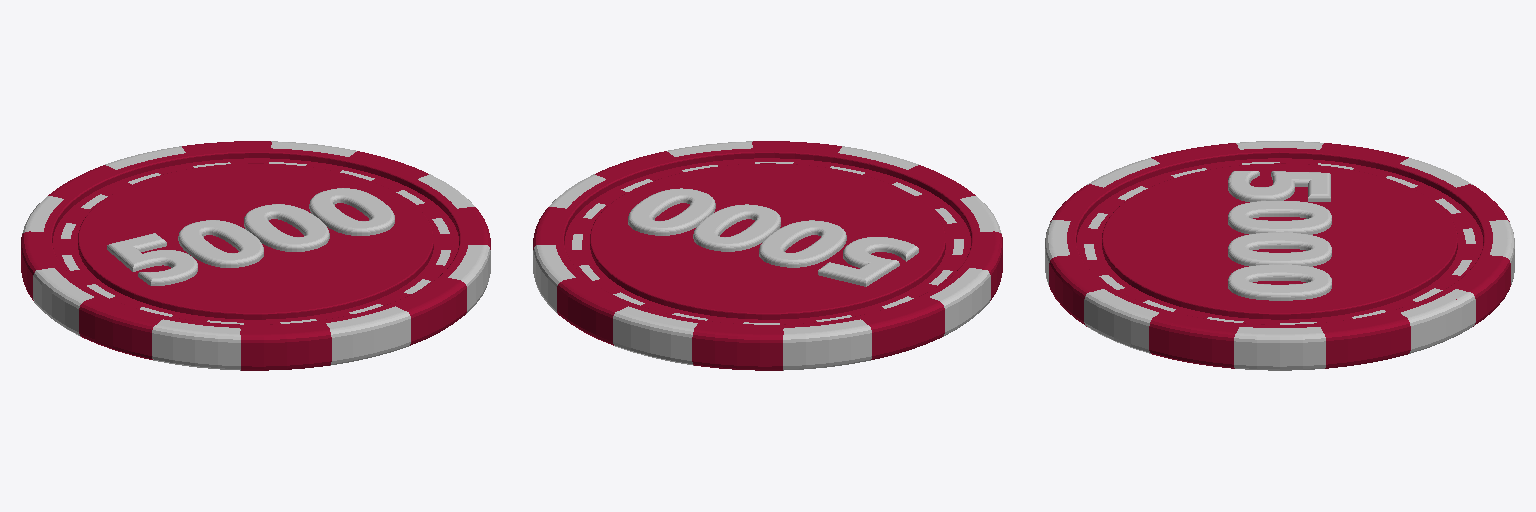
The model's file is poker_chip_5000.obj.
3 renders of one model, left to right at view 1: azimuth 30°, elevation 25°; view 2: azimuth 150°, elevation 25°; view 3: azimuth 270°, elevation 25°, orthographic.
Parts seen in each view (by area): view 1: obj1, obj2, obj3; view 2: obj1, obj2, obj3; view 3: obj1, obj2, obj3.
Boxes of the visible parts, x1,y1,x2,y2 form: obj1: [21, 141, 490, 370]; obj2: [22, 141, 490, 370]; obj3: [107, 188, 394, 285]; obj1: [533, 141, 1002, 370]; obj2: [533, 141, 1001, 370]; obj3: [628, 188, 918, 286]; obj1: [1049, 143, 1510, 368]; obj2: [1045, 141, 1514, 370]; obj3: [1228, 171, 1331, 300].
Bounding box in the file's own units: 0.0802 × 0.0091 × 0.0802.